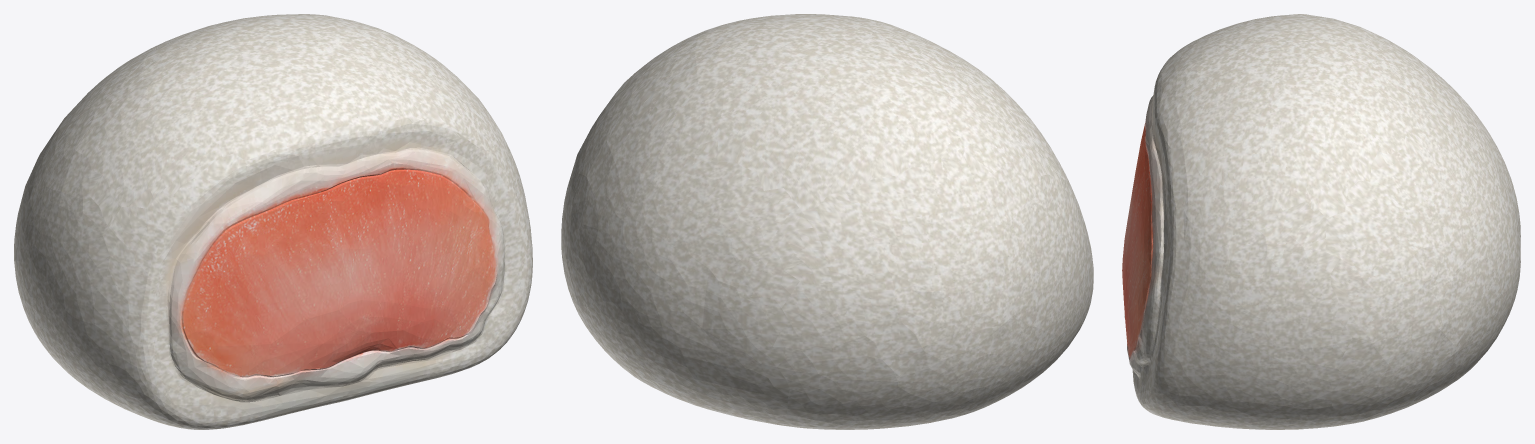
File: peachmochi.glb
The picture shows the model from 3 angles, left to right: view 1: azimuth 30°, elevation 25°; view 2: azimuth 150°, elevation 25°; view 3: azimuth 270°, elevation 25°; orthographic projection. The views are drawn at different scales.
Parts seen in each view (by area): view 1: peachmochi; view 2: peachmochi; view 3: peachmochi.
Boxes of the visible parts, x1,y1,x2,y2 form: peachmochi: (14, 14, 532, 429); peachmochi: (561, 14, 1093, 429); peachmochi: (1122, 14, 1520, 429).
Size of the model in its own units: 1.9 by 1.26 by 1.49.
1 material, 1 textured.
